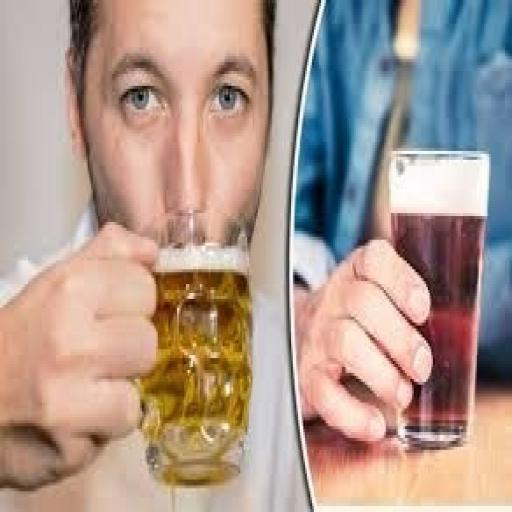drinking: (61, 0, 254, 486)
